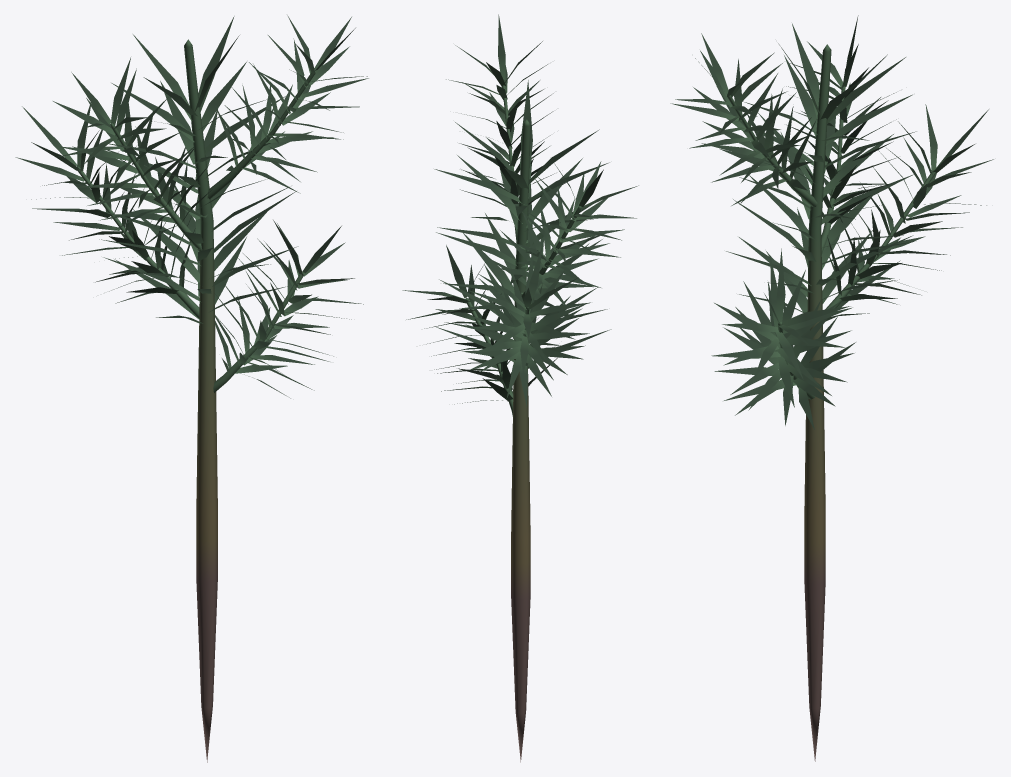
The model's file is trees-plants-saplings-pine-sapling_v2.fbx.
3 renders of one model, left to right at view 1: azimuth 30°, elevation 25°; view 2: azimuth 150°, elevation 25°; view 3: azimuth 270°, elevation 25°, orthographic. The views are drawn at different scales.
Visible parts, largest first — view 1: Pine Sapling_v2; view 2: Pine Sapling_v2; view 3: Pine Sapling_v2.
Part boxes in pixels (x1,y1,x2,y2): Pine Sapling_v2: [15, 15, 368, 762]; Pine Sapling_v2: [402, 14, 638, 762]; Pine Sapling_v2: [670, 15, 993, 761].
Bounding box in the file's own units: 0.2214 × 0.6 × 0.2363.
